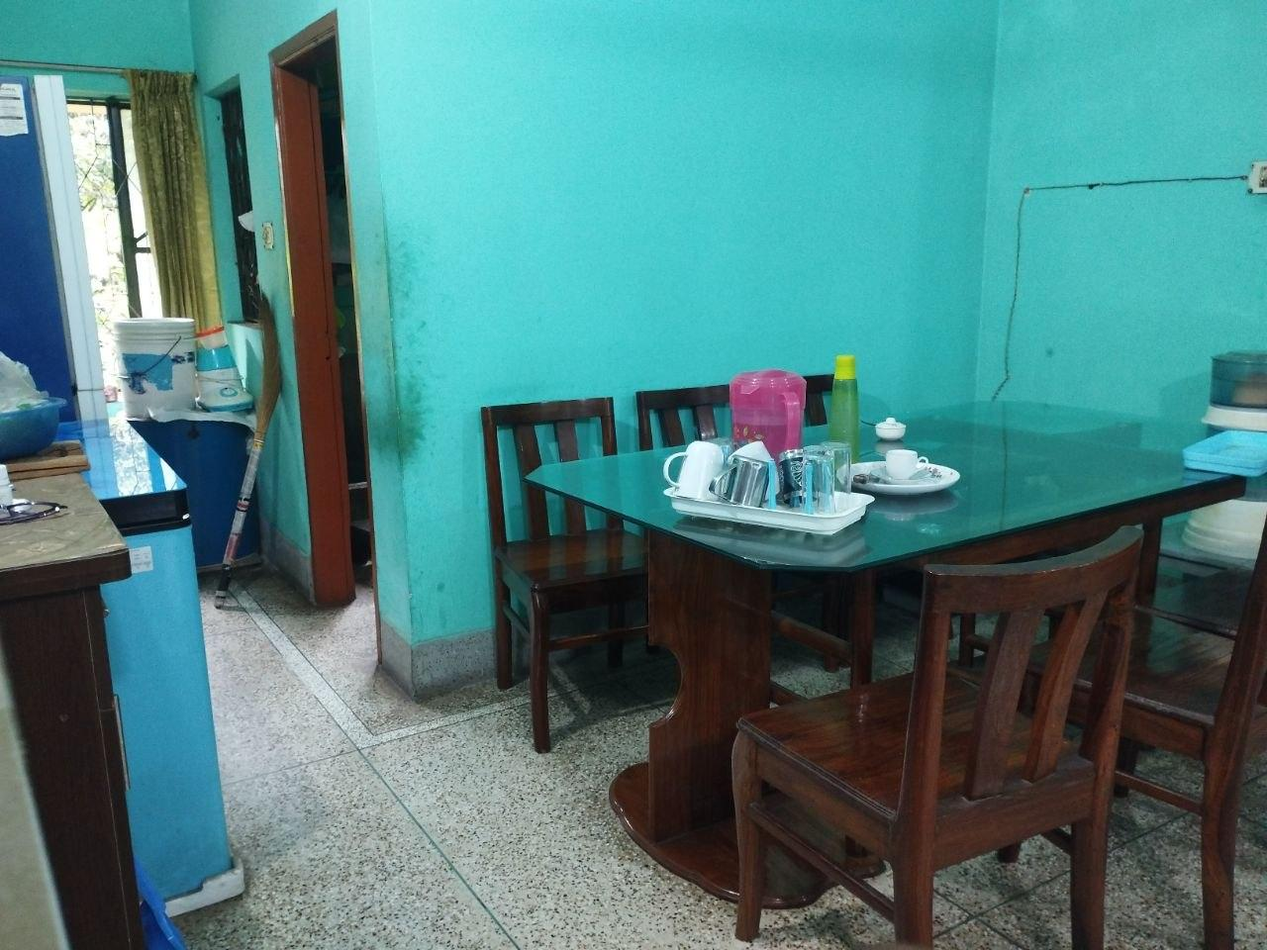Bottle: (817, 332, 875, 482)
Chair: (729, 528, 1160, 939), (472, 387, 648, 768)
Cup: (869, 443, 941, 493)
Glass: (679, 431, 841, 531)
Jug: (729, 351, 809, 519)
Keychain: (4, 473, 69, 535)
Mop: (219, 274, 281, 588)
Plate: (830, 443, 966, 501)
Table: (452, 376, 1267, 899)
Window: (60, 83, 171, 429)
